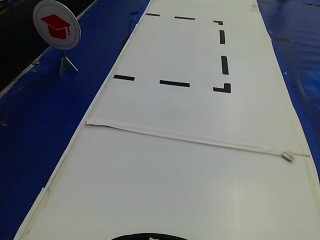school: (33, 4, 80, 52)
